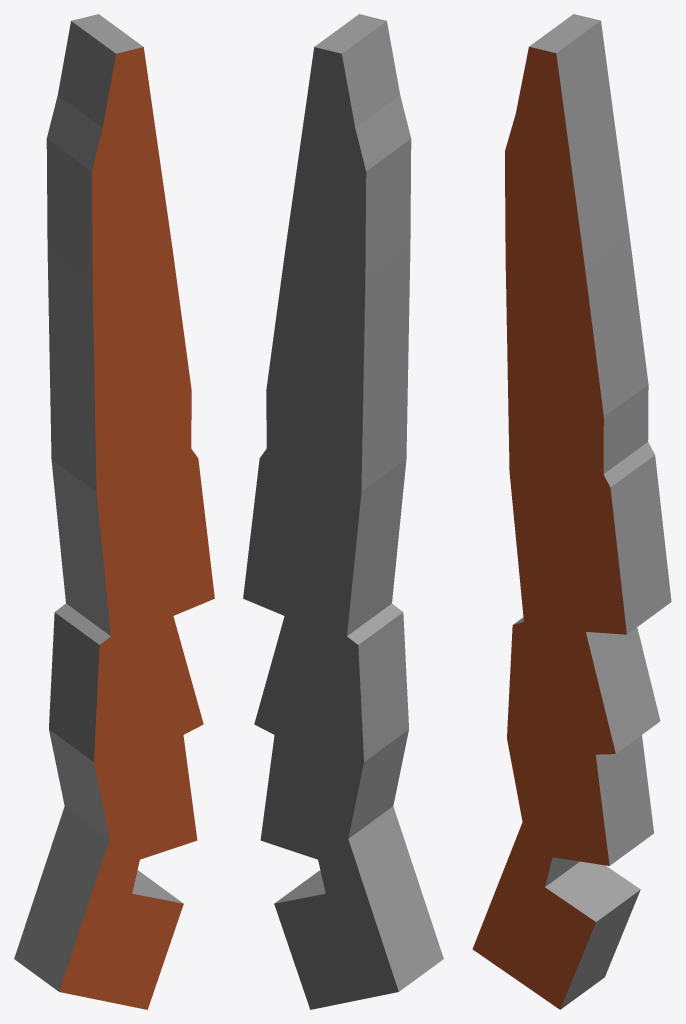
Rendered from construction_4076_assumed_A_Casa_h6m.obj.
The picture shows the model from 3 angles, left to right: view 1: azimuth 30°, elevation 25°; view 2: azimuth 150°, elevation 25°; view 3: azimuth 330°, elevation 25°; orthographic projection.
Visible parts, largest first — view 1: construction_4076_assumed_A_Casa; view 2: construction_4076_assumed_A_Casa; view 3: construction_4076_assumed_A_Casa.
Part boxes in pixels (bbox=[...]): construction_4076_assumed_A_Casa: bbox=[14, 14, 214, 1009]; construction_4076_assumed_A_Casa: bbox=[243, 14, 443, 1009]; construction_4076_assumed_A_Casa: bbox=[472, 14, 671, 1009].
Bounding box in the file's own units: 11.98 × 70.85 × 6.
